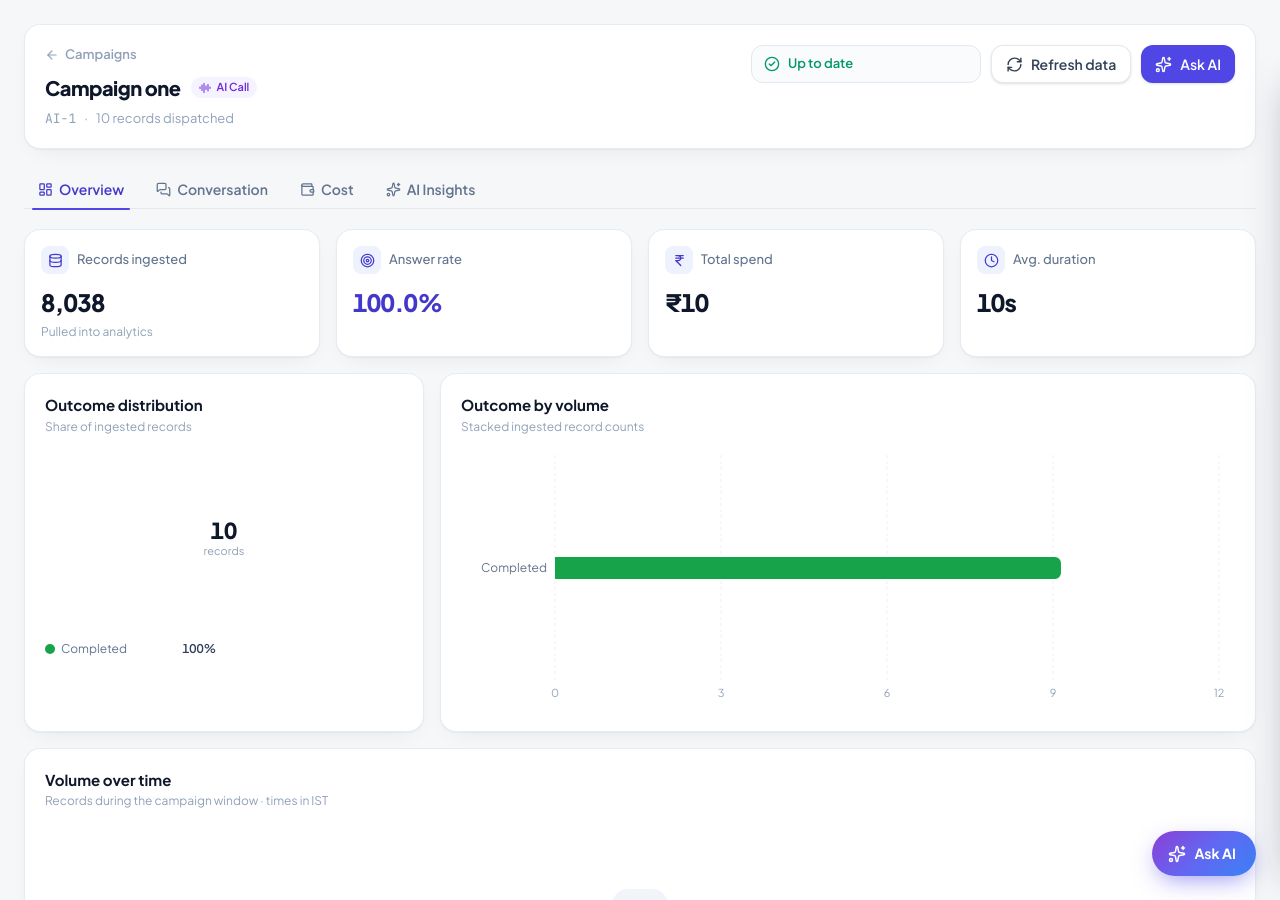
Analytics page incomplete upstream data › keeps the previous aggregate across a refresh that fails
The width and height of the screenshot is (1280, 900).
Expected: the text "Up to date" is shown, [764,54,853,74]
Expected: the text "8,038" is shown, [41,287,105,317]
Step 1. Click the button "Refresh data" → (1061, 64), box [991,45,1131,83]
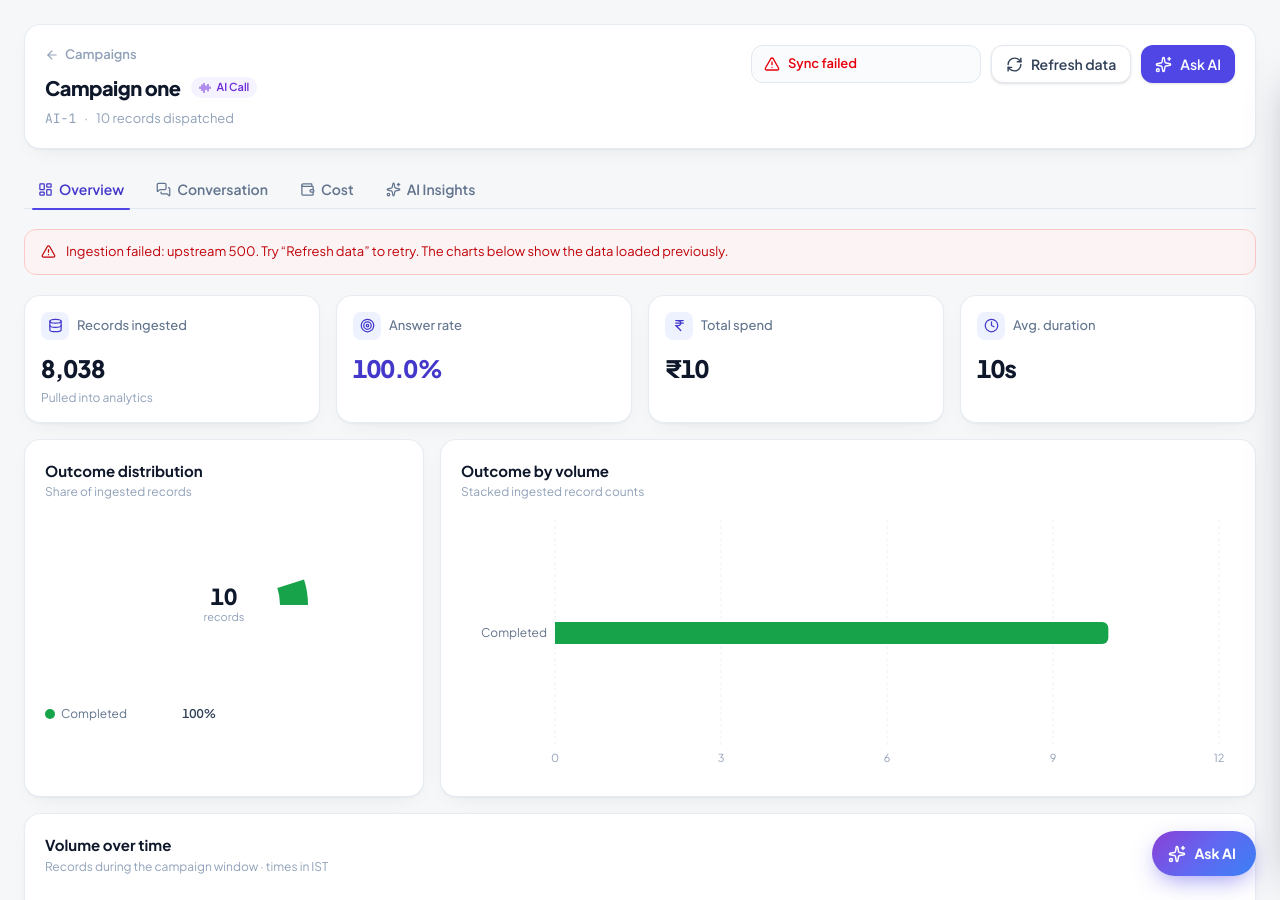
Expected: the text "8,038" is shown, [41,352,105,382]
Expected: the text "Ingestion failed: upstream 500" is shown, [66,242,728,262]
